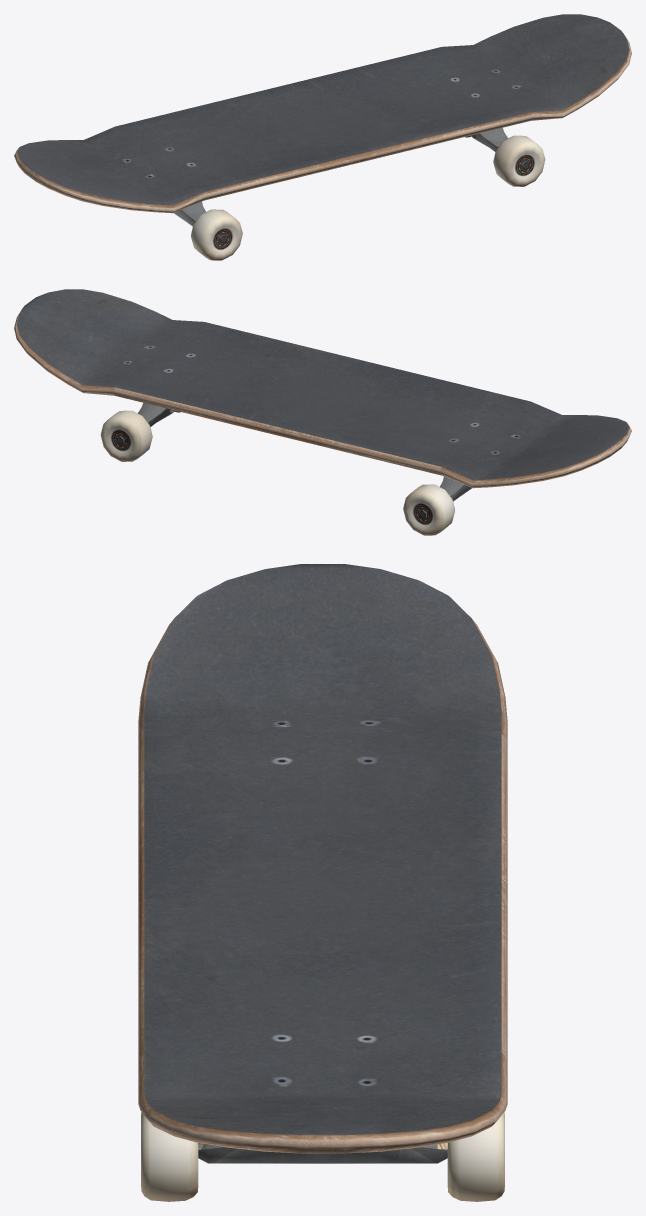
File: finalboard1fix.fbx
The picture shows the model from 3 angles, top to bottom: view 1: azimuth 30°, elevation 25°; view 2: azimuth 150°, elevation 25°; view 3: azimuth 270°, elevation 25°; orthographic projection. The views are drawn at different scales.
Visible parts, largest first — view 1: Skateboard; view 2: Skateboard; view 3: Skateboard.
Part boxes in pixels (left/top/right/bottom): Skateboard: left=14, top=14, right=631, bottom=260; Skateboard: left=14, top=289, right=631, bottom=535; Skateboard: left=138, top=564, right=507, bottom=1201.
Bounding box in the file's own units: 226 × 35.4 × 61.23.
